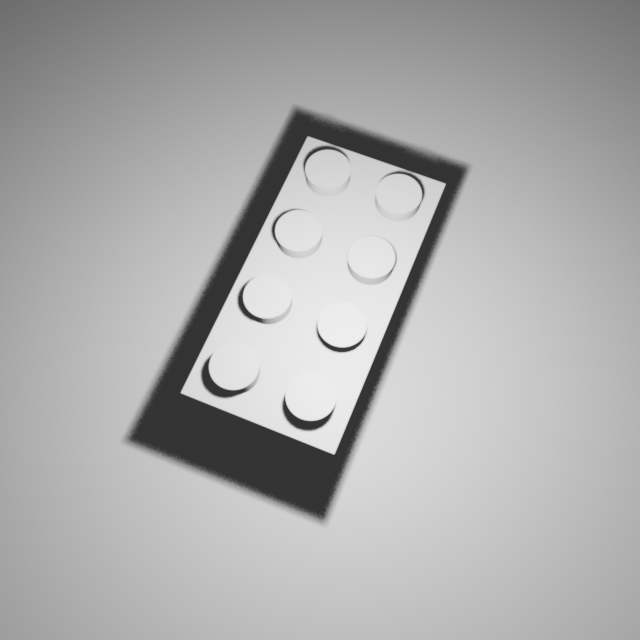lego_2x4: (179, 128, 447, 478)
